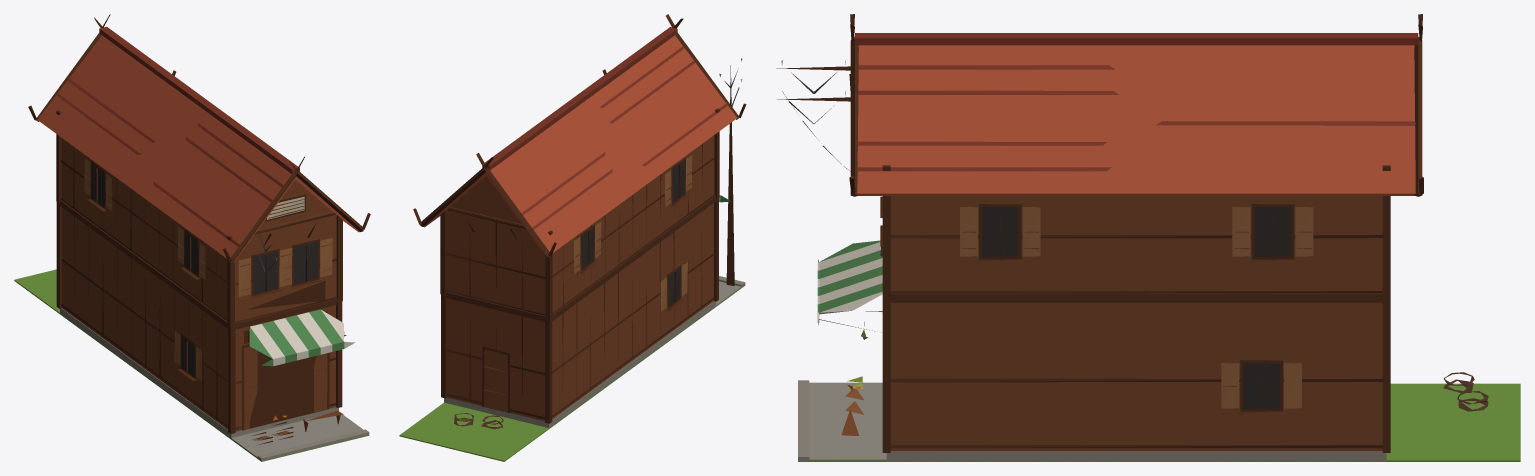
Rendered from bay1_one.glb.
The picture shows the model from 3 angles, left to right: view 1: azimuth 30°, elevation 25°; view 2: azimuth 150°, elevation 25°; view 3: azimuth 270°, elevation 25°; orthographic projection. The views are drawn at different scales.
Visible parts, largest first — view 1: body, windows; view 2: body, windows; view 3: body, windows.
Part boxes in pixels (box(x1,y1,x2,y2)): body: box(14, 14, 370, 461); windows: box(91, 164, 344, 375); body: box(399, 14, 746, 461); windows: box(581, 161, 685, 306); body: box(776, 14, 1520, 461); windows: box(861, 207, 1290, 408).
Bounding box in the file's own units: 5.46 × 9.82 × 16.4.
